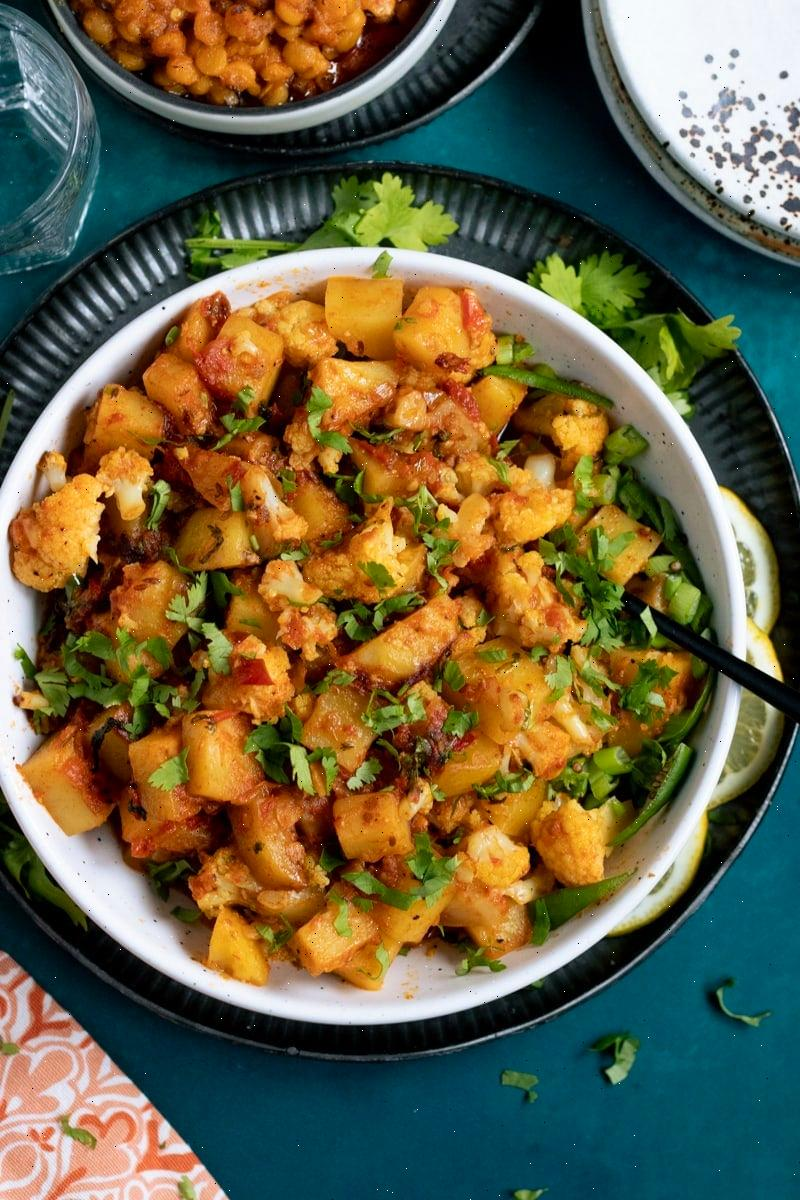aloo gobhi: (31, 291, 727, 1016)
